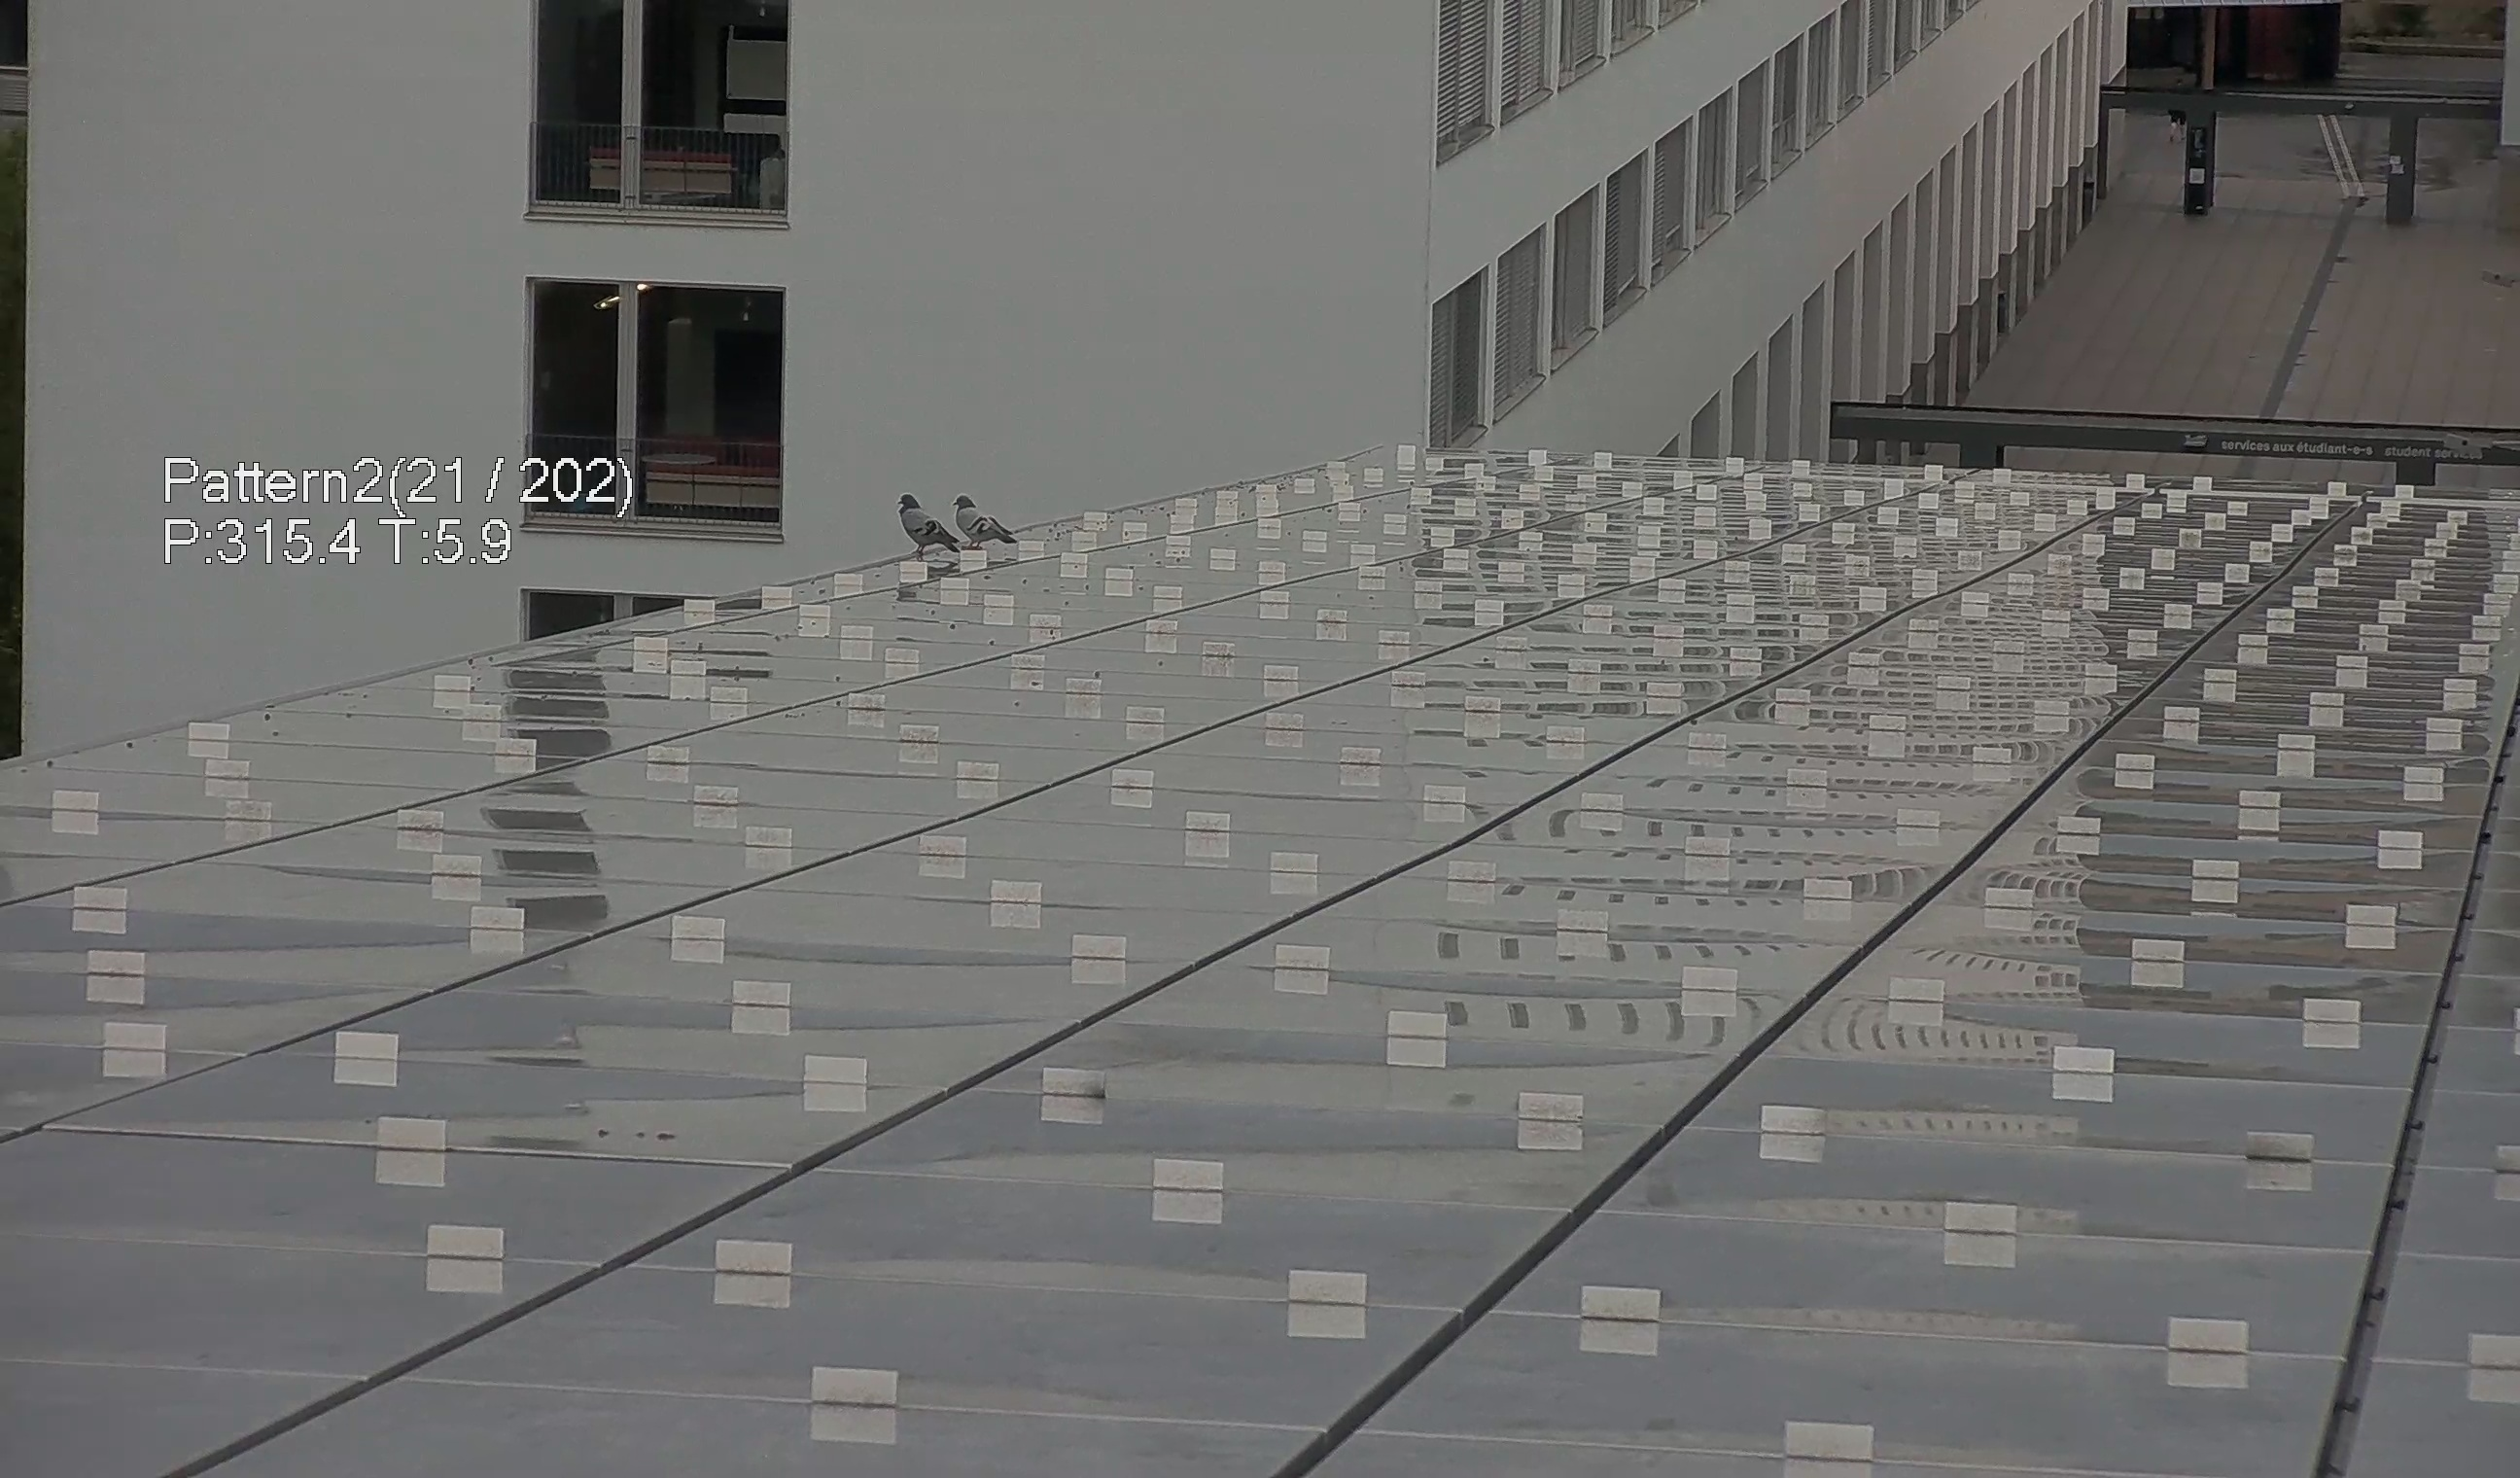Pigeon: (885, 473, 969, 577), (950, 473, 1031, 556)
